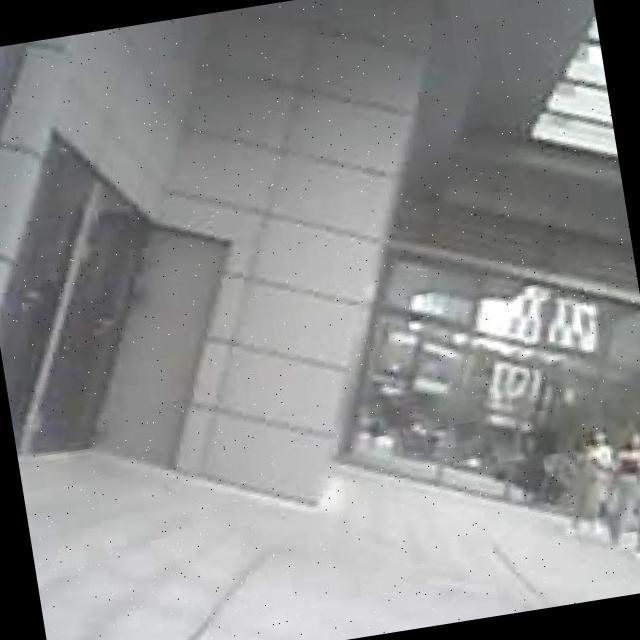person: (559, 424, 625, 539), (594, 423, 640, 544), (617, 441, 640, 559)
